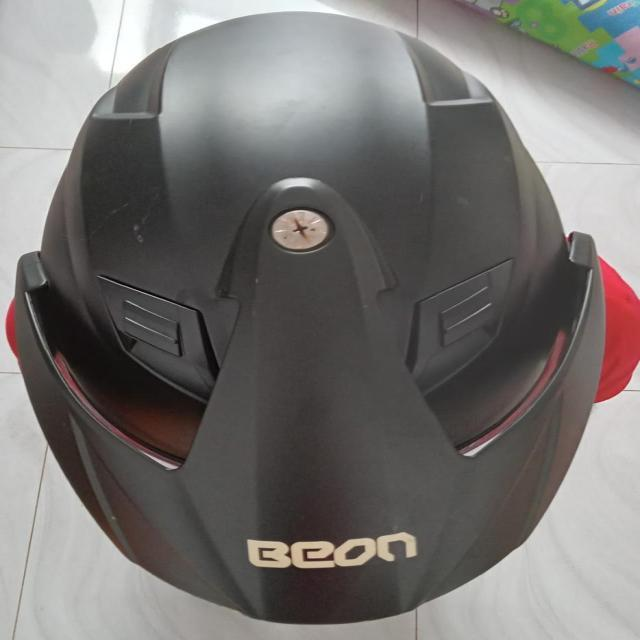helmet: (9, 13, 635, 603)
